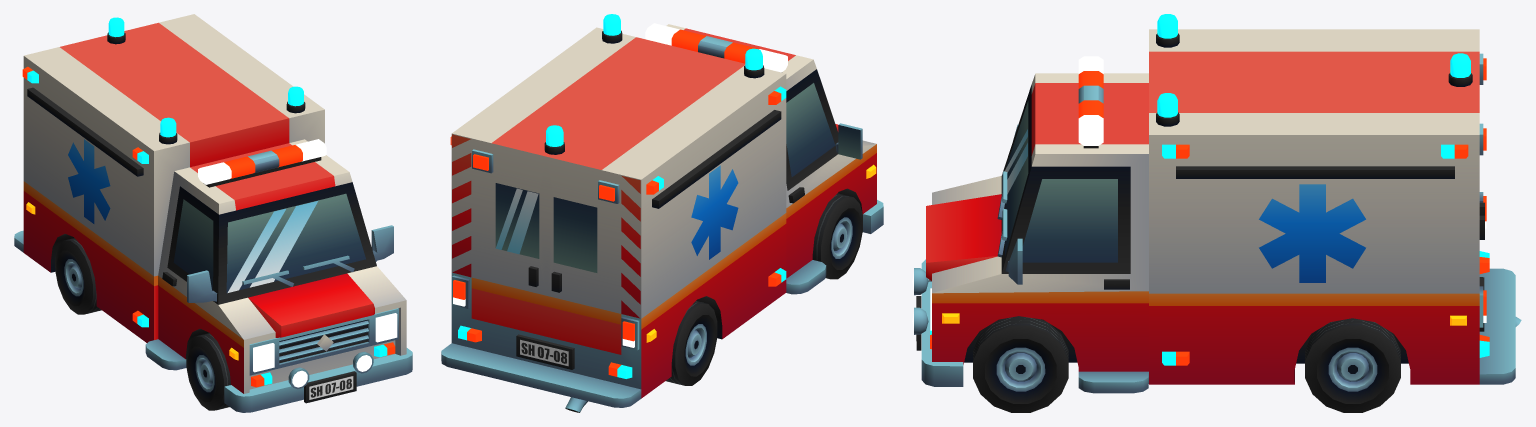
Rendered from car.Ambulance.glb.
3 views of the same model, side by side, from view 1: azimuth 30°, elevation 25°; view 2: azimuth 150°, elevation 25°; view 3: azimuth 270°, elevation 25° (orthographic). The views are drawn at different scales.
Visible parts, largest first — view 1: car.Ambulance; view 2: car.Ambulance; view 3: car.Ambulance.
Part boxes in pixels (box(x1,y1,x2,y2)): car.Ambulance: box(14, 14, 412, 412); car.Ambulance: box(441, 14, 883, 412); car.Ambulance: box(912, 14, 1521, 412).
Bounding box in the file's own units: 2.41 × 2.71 × 4.9.
Materials: 2 (2 with a texture image).
